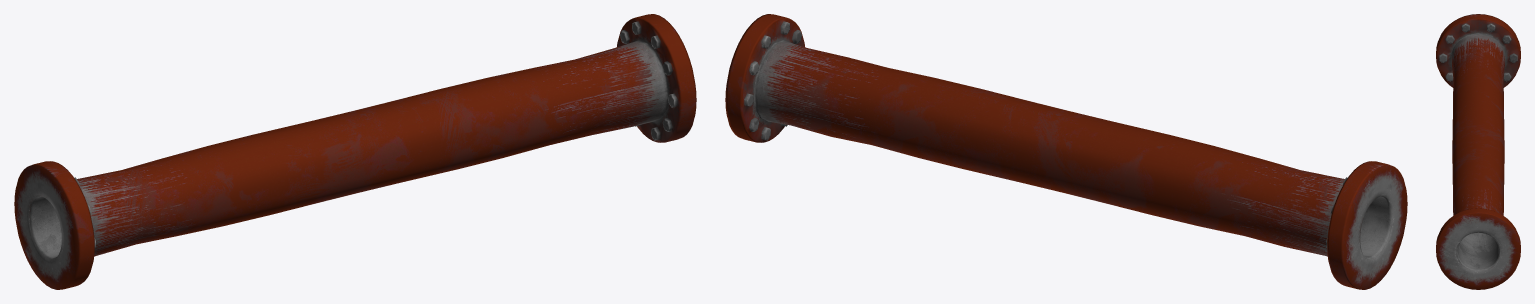
File: red_pipe.glb
3 views of the same model, side by side, from view 1: azimuth 30°, elevation 25°; view 2: azimuth 150°, elevation 25°; view 3: azimuth 270°, elevation 25° (orthographic). The views are drawn at different scales.
Visible parts, largest first — view 1: g; view 2: g; view 3: g.
Boxes of the visible parts, x1,y1,x2,y2 form: g: (14, 14, 696, 289); g: (725, 14, 1407, 289); g: (1436, 14, 1520, 289).
Size of the model in its own units: 2.07 by 0.372 by 0.372.
Materials: 1 (1 with a texture image).
